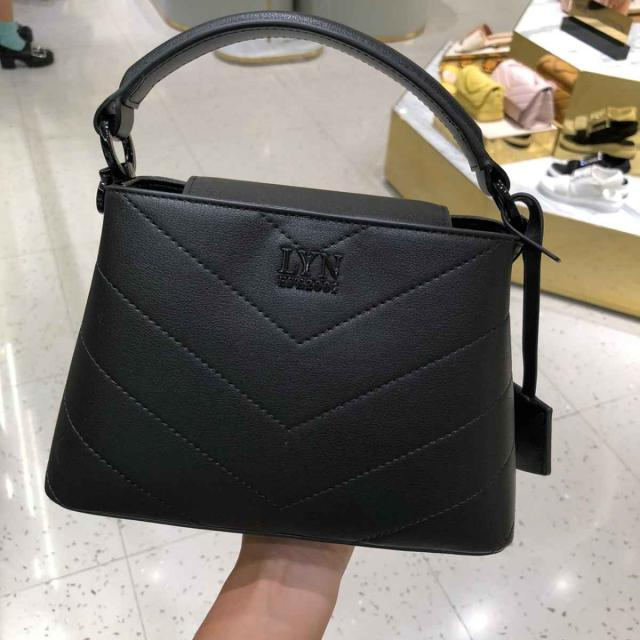Handbag: (41, 11, 526, 555)
